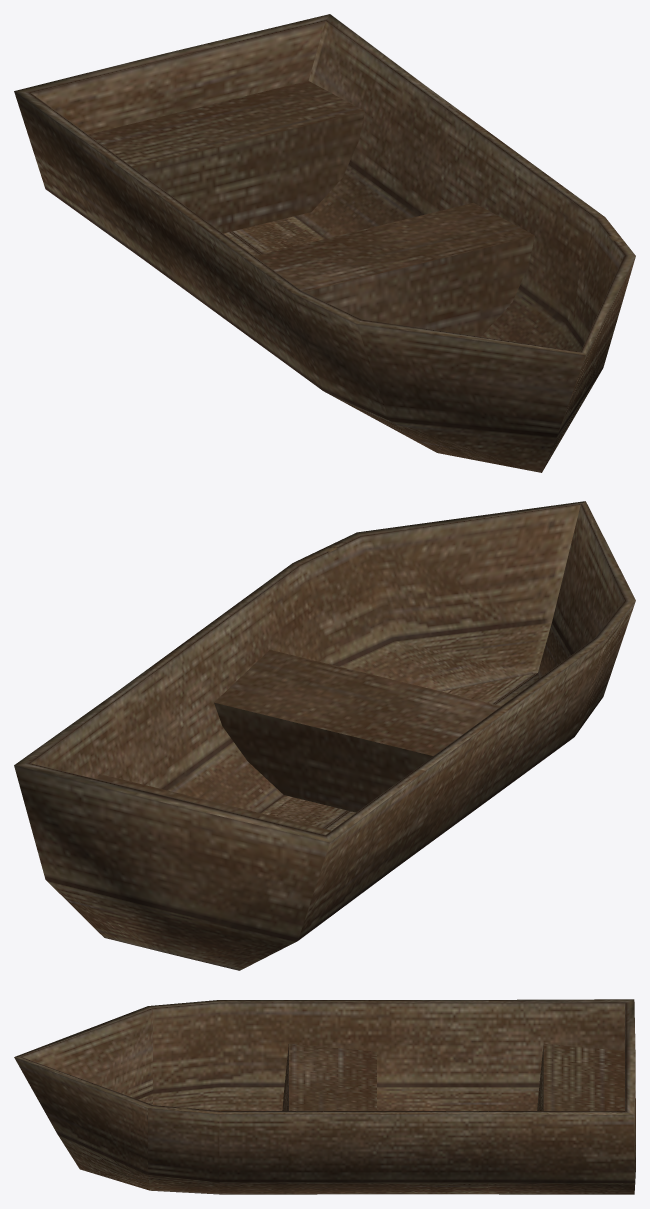
The model's file is SM_TI_Wood_1_Boat_0.fbx.
The picture shows the model from 3 angles, top to bottom: view 1: azimuth 30°, elevation 25°; view 2: azimuth 150°, elevation 25°; view 3: azimuth 270°, elevation 25°; orthographic projection. The views are drawn at different scales.
Parts seen in each view (by area): view 1: SM_TI_Wood_1_Boat_0; view 2: SM_TI_Wood_1_Boat_0; view 3: SM_TI_Wood_1_Boat_0.
Part boxes in pixels (x1,y1,x2,y2): SM_TI_Wood_1_Boat_0: (14,14,635,472); SM_TI_Wood_1_Boat_0: (14,501,635,970); SM_TI_Wood_1_Boat_0: (14,999,635,1194).
Bounding box in the file's own units: 1.81 × 4.12 × 0.8247.
